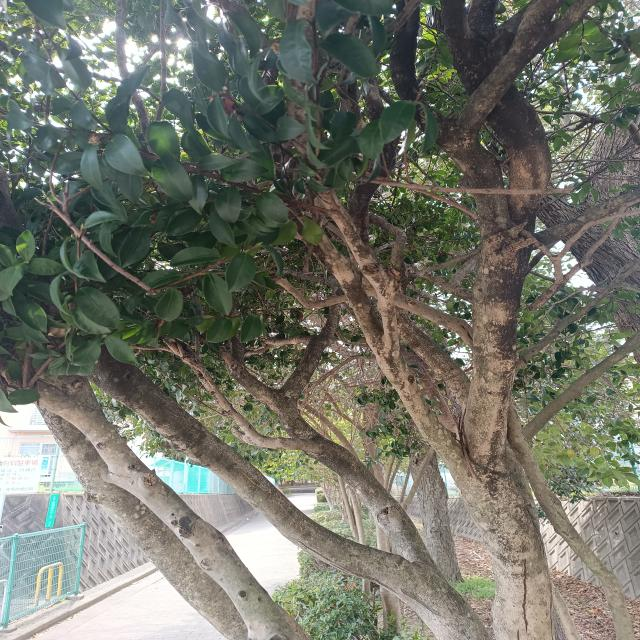Branch: (80, 334, 413, 596), (27, 379, 295, 640), (222, 330, 435, 563), (40, 405, 249, 640), (422, 118, 528, 460), (457, 0, 595, 131), (275, 196, 384, 351), (314, 190, 401, 350), (375, 347, 461, 485), (388, 0, 442, 130)
Twig: (512, 208, 640, 325), (184, 343, 316, 450), (516, 263, 639, 368), (524, 332, 640, 440), (270, 269, 343, 402), (362, 276, 472, 348), (563, 198, 640, 282), (347, 175, 571, 194), (264, 273, 349, 310), (371, 213, 407, 278)
